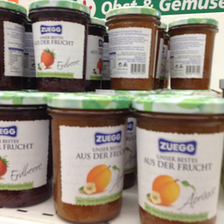jam: (131, 94, 224, 222), (47, 94, 129, 224), (1, 94, 52, 208), (28, 1, 89, 92), (104, 6, 162, 90), (168, 17, 218, 90)
